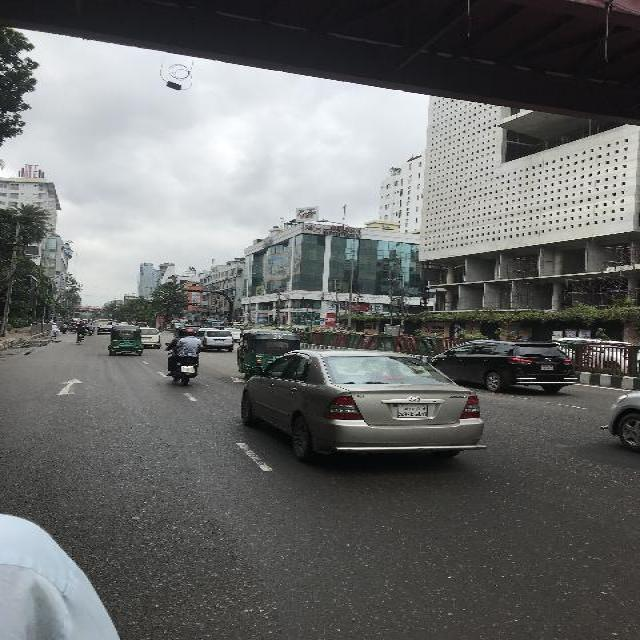bike: (169, 356, 205, 389), (74, 332, 86, 346), (87, 330, 96, 337)
vehicle: (239, 377, 488, 465), (428, 341, 579, 394), (237, 331, 281, 374), (107, 325, 143, 357), (195, 330, 236, 354), (142, 328, 162, 349), (204, 320, 225, 329), (96, 325, 111, 336), (69, 322, 80, 335), (97, 319, 109, 325), (173, 324, 181, 330)
